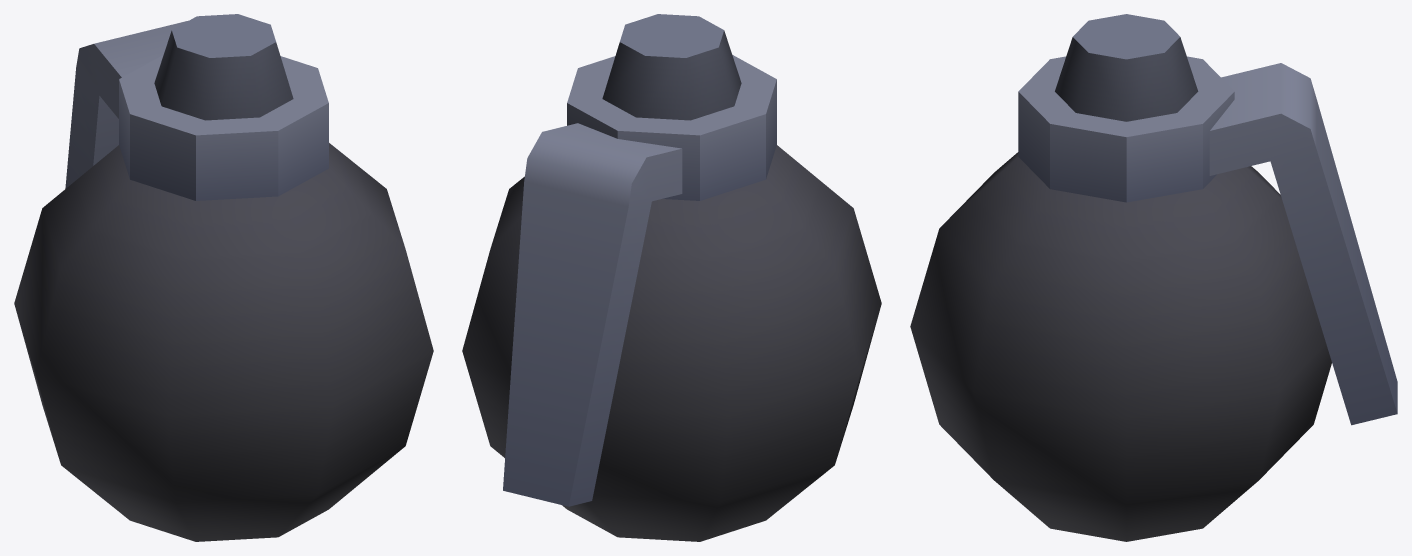
File: grenade-b.glb
The picture shows the model from 3 angles, left to right: view 1: azimuth 30°, elevation 25°; view 2: azimuth 150°, elevation 25°; view 3: azimuth 270°, elevation 25°; orthographic projection.
Visible parts, largest first — view 1: grenade-b; view 2: grenade-b; view 3: grenade-b.
Part boxes in pixels (x1=…): grenade-b: x1=14, y1=14, x2=433, y2=541; grenade-b: x1=462, y1=14, x2=881, y2=541; grenade-b: x1=910, y1=14, x2=1397, y2=541.
Bounding box in the file's own units: 0.18 × 0.2111 × 0.2029.
Materials: 1 (1 with a texture image).
